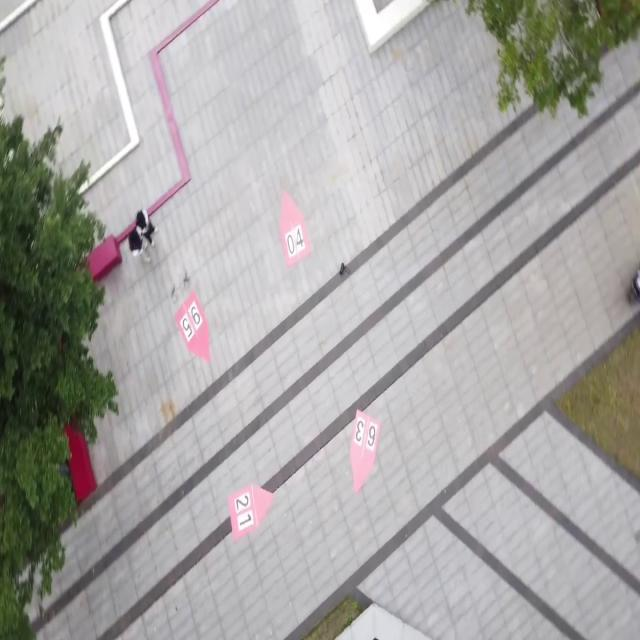-sign-: (272, 186, 315, 274), (220, 481, 282, 542), (344, 407, 383, 498), (172, 286, 218, 363)
